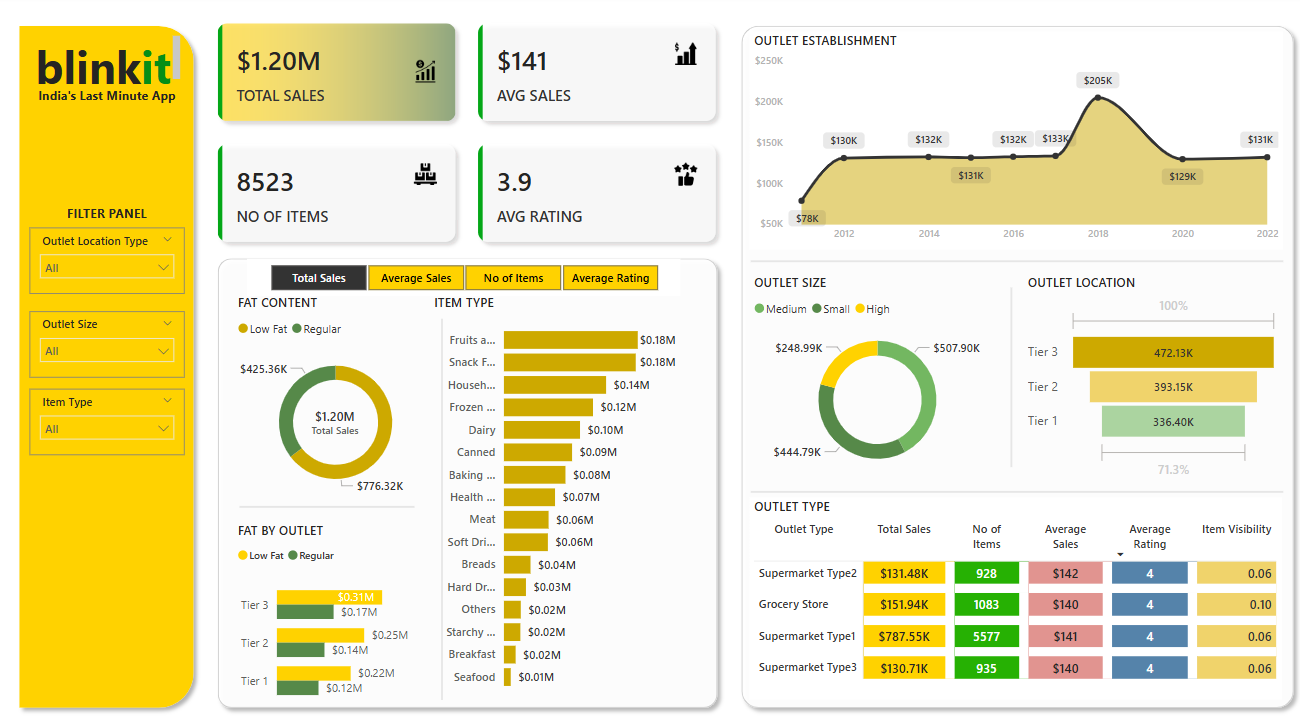

The page's visual inventory and layout, read from the dashboard file:
{"tool":"powerbi","page":{"name":"Page 1","canvas":[1400,800],"ordinal":0},"visuals":[{"type":"shape","box":[14.7,24.1,205.1,749.3],"z":0},{"type":"textbox","box":[268.1,711.8,203.8,61.7],"z":1000},{"type":"textbox","box":[34.9,38.9,166.2,64.3],"z":2000},{"type":"textbox","box":[34.9,93.8,166.2,29.5],"z":3000},{"type":"cardVisual","fields":{"Data":["BlinkIT Grocery Data.Total Sales","BlinkIT Grocery Data.Average Sales","BlinkIT Grocery Data.No of Items","BlinkIT Grocery Data.Average Rating"]},"box":[219.8,13.4,569.7,269.4],"z":4000},{"type":"shape","box":[227.9,273.5,553.6,500],"z":5000},{"type":"donutChart","title":"FAT CONTENT","fields":{"Y":["BlinkIT Grocery Data.Total Sales"],"Category":["BlinkIT Grocery Data.Item Fat Content"]},"box":[253.4,320.4,219.8,230.6],"z":6000},{"type":"slicer","fields":{"Values":["Metrics.Metrics"]},"box":[268.1,282.8,465.1,40.2],"z":7000},{"type":"cardVisual","fields":{"Data":["BlinkIT Grocery Data.Total Sales"]},"box":[303,422.3,119.3,71],"z":8000},{"type":"clusteredBarChart","title":"FAT BY OUTLET","fields":{"Y":["BlinkIT Grocery Data.Total Sales"],"Category":["BlinkIT Grocery Data.Outlet Location Type"],"Series":["BlinkIT Grocery Data.Item Fat Content"]},"box":[253.4,564.3,209.1,209.1],"z":9000},{"type":"shape","box":[469.2,347.2,16.1,408.8],"z":10000},{"type":"shape","box":[260.1,533.5,187.7,30.8],"z":11000},{"type":"barChart","title":"ITEM TYPE","fields":{"Y":["BlinkIT Grocery Data.Total Sales"],"Category":["BlinkIT Grocery Data.Item Type"]},"box":[463.8,320.4,269.4,435.7],"z":12000},{"type":"shape","box":[789.5,24.1,609.9,749.3],"z":13000},{"type":"lineChart","title":"OUTLET ESTABLISHMENT","fields":{"Y":["BlinkIT Grocery Data.Total Sales"],"Category":["BlinkIT Grocery Data.Outlet Establishment Year"]},"box":[807,38.9,572.4,234.6],"z":14000},{"type":"shape","box":[808.3,524.1,571,17.4],"z":15000},{"type":"donutChart","title":"OUTLET SIZE","fields":{"Y":["BlinkIT Grocery Data.Total Sales"],"Category":["BlinkIT Grocery Data.Outlet Size"]},"box":[807,298.9,274.8,225.2],"z":16000},{"type":"shape","box":[1081.8,313.7,12.1,193],"z":17000},{"type":"funnel","title":"OUTLET LOCATION","fields":{"Category":["BlinkIT Grocery Data.Outlet Location Type"],"Y":["Sum(BlinkIT Grocery Data.Sales)"]},"box":[1100.5,298.9,278.8,225.2],"z":18000},{"type":"shape","box":[808.3,268.1,571,34.9],"z":19000},{"type":"pivotTable","title":"OUTLET TYPE","fields":{"Rows":["BlinkIT Grocery Data.Outlet Type"],"Values":["BlinkIT Grocery Data.Total Sales","BlinkIT Grocery Data.No of Items","BlinkIT Grocery Data.Average Sales","BlinkIT Grocery Data.Average Rating","Avg(BlinkIT Grocery Data.Item Visibility)"]},"box":[807,538.9,571,217.2],"z":20000},{"type":"slicer","fields":{"Values":["BlinkIT Grocery Data.Outlet Location Type"]},"box":[34.9,249.3,166.2,71],"z":21000},{"type":"slicer","fields":{"Values":["BlinkIT Grocery Data.Outlet Size"]},"box":[34.9,339.1,166.2,71],"z":22000},{"type":"slicer","fields":{"Values":["BlinkIT Grocery Data.Item Type"]},"box":[34.9,422.3,166.2,71],"z":23000},{"type":"textbox","box":[34.9,219.8,166.2,29.5],"z":24000}]}

Visuals, with their boxes in screenshot pixels (x1, y1, x2, y2), scaled from the page's 1400x800 canvas onto the 1300x726 screenshot:
shape: pyautogui.locateOnScreen(14, 22, 204, 702)
textbox: pyautogui.locateOnScreen(249, 646, 438, 702)
textbox: pyautogui.locateOnScreen(32, 35, 187, 94)
textbox: pyautogui.locateOnScreen(32, 85, 187, 112)
cardVisual - BlinkIT Grocery Data.Total Sales x BlinkIT Grocery Data.Average Sales: pyautogui.locateOnScreen(204, 12, 733, 257)
shape: pyautogui.locateOnScreen(212, 248, 726, 702)
"FAT CONTENT" donutChart: pyautogui.locateOnScreen(235, 291, 439, 500)
slicer - Metrics.Metrics: pyautogui.locateOnScreen(249, 257, 681, 293)
cardVisual - BlinkIT Grocery Data.Total Sales: pyautogui.locateOnScreen(281, 383, 392, 448)
"FAT BY OUTLET" clusteredBarChart: pyautogui.locateOnScreen(235, 512, 429, 702)
shape: pyautogui.locateOnScreen(436, 315, 451, 686)
shape: pyautogui.locateOnScreen(242, 484, 416, 512)
"ITEM TYPE" barChart: pyautogui.locateOnScreen(431, 291, 681, 686)
shape: pyautogui.locateOnScreen(733, 22, 1299, 702)
"OUTLET ESTABLISHMENT" lineChart: pyautogui.locateOnScreen(749, 35, 1281, 248)
shape: pyautogui.locateOnScreen(751, 476, 1281, 491)
"OUTLET SIZE" donutChart: pyautogui.locateOnScreen(749, 271, 1005, 476)
shape: pyautogui.locateOnScreen(1005, 285, 1016, 460)
"OUTLET LOCATION" funnel: pyautogui.locateOnScreen(1022, 271, 1281, 476)
shape: pyautogui.locateOnScreen(751, 243, 1281, 275)
"OUTLET TYPE" pivotTable: pyautogui.locateOnScreen(749, 489, 1280, 686)
slicer - BlinkIT Grocery Data.Outlet Location Type: pyautogui.locateOnScreen(32, 226, 187, 291)
slicer - BlinkIT Grocery Data.Outlet Size: pyautogui.locateOnScreen(32, 308, 187, 372)
slicer - BlinkIT Grocery Data.Item Type: pyautogui.locateOnScreen(32, 383, 187, 448)
textbox: pyautogui.locateOnScreen(32, 199, 187, 226)
